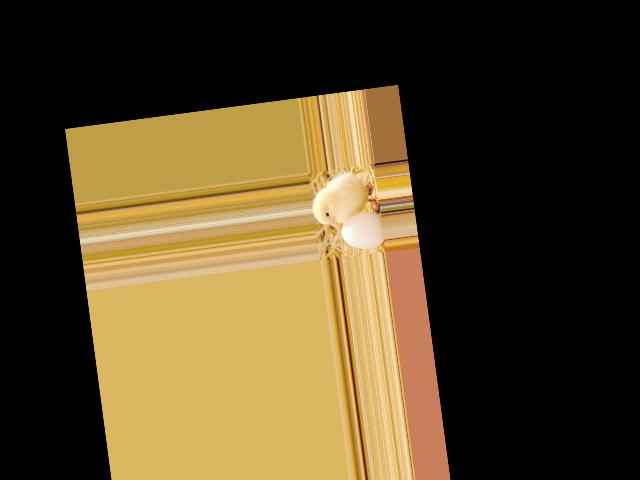egg: (339, 209, 385, 251)
